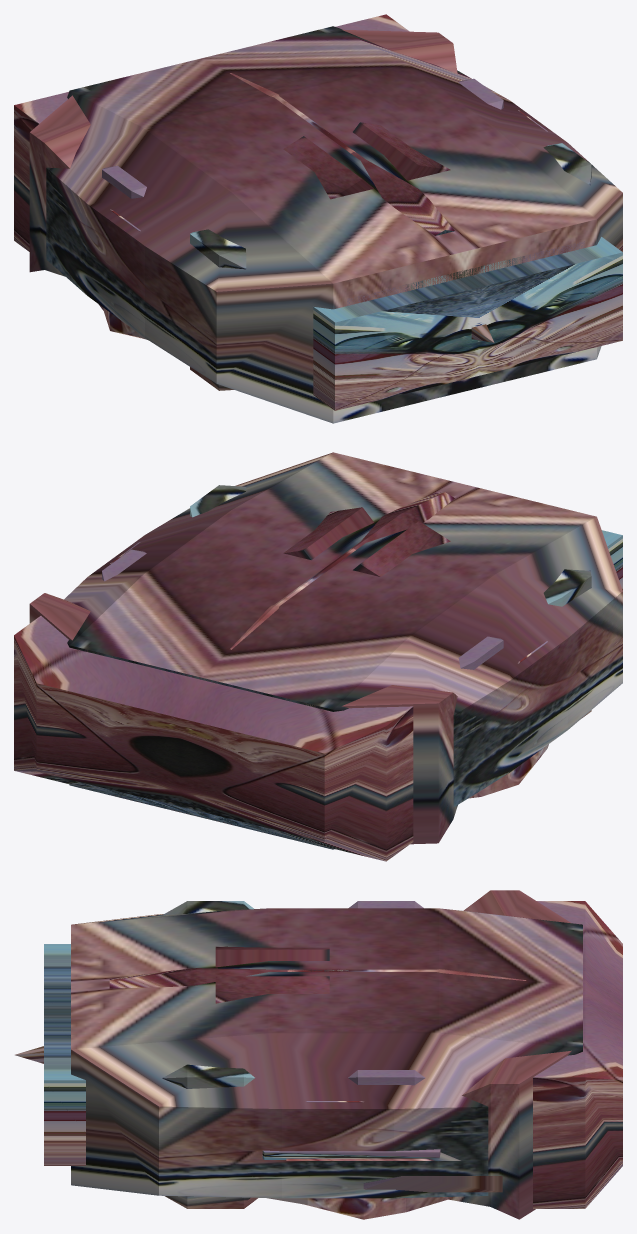
File: majadroid-components.glb
3 renders of one model, top to bottom at view 1: azimuth 30°, elevation 25°; view 2: azimuth 150°, elevation 25°; view 3: azimuth 270°, elevation 25°, orthographic. The views are drawn at different scales.
Visible parts, largest first — view 1: Body-1, Body-3, Body-2, Engine-3; view 2: Body-1, Body-3, Body-2, Engine-3; view 3: Body-1, Body-3, Body-2, Engine-3, Wing-2, Wing-1, Wing-3.
Boxes of the visible parts, left/top/right/bottom form: Body-1: left=46, top=26, right=622, bottom=423; Body-3: left=14, top=14, right=622, bottom=410; Body-2: left=29, top=29, right=584, bottom=339; Engine-3: left=283, top=122, right=454, bottom=235; Body-1: left=64, top=452, right=622, bottom=849; Body-3: left=14, top=485, right=622, bottom=861; Body-2: left=29, top=542, right=548, bottom=844; Engine-3: left=283, top=492, right=454, bottom=576; Body-1: left=71, top=908, right=582, bottom=1198; Body-3: left=44, top=901, right=622, bottom=1208; Body-2: left=267, top=890, right=571, bottom=1219; Engine-3: left=109, top=946, right=348, bottom=1003; Wing-2: left=363, top=1176, right=502, bottom=1192; Wing-1: left=262, top=1149, right=440, bottom=1159; Wing-3: left=286, top=1152, right=460, bottom=1160.
Bounding box in the file's own units: 11.7 × 4.66 × 14.51.
4 materials, 4 textured.
